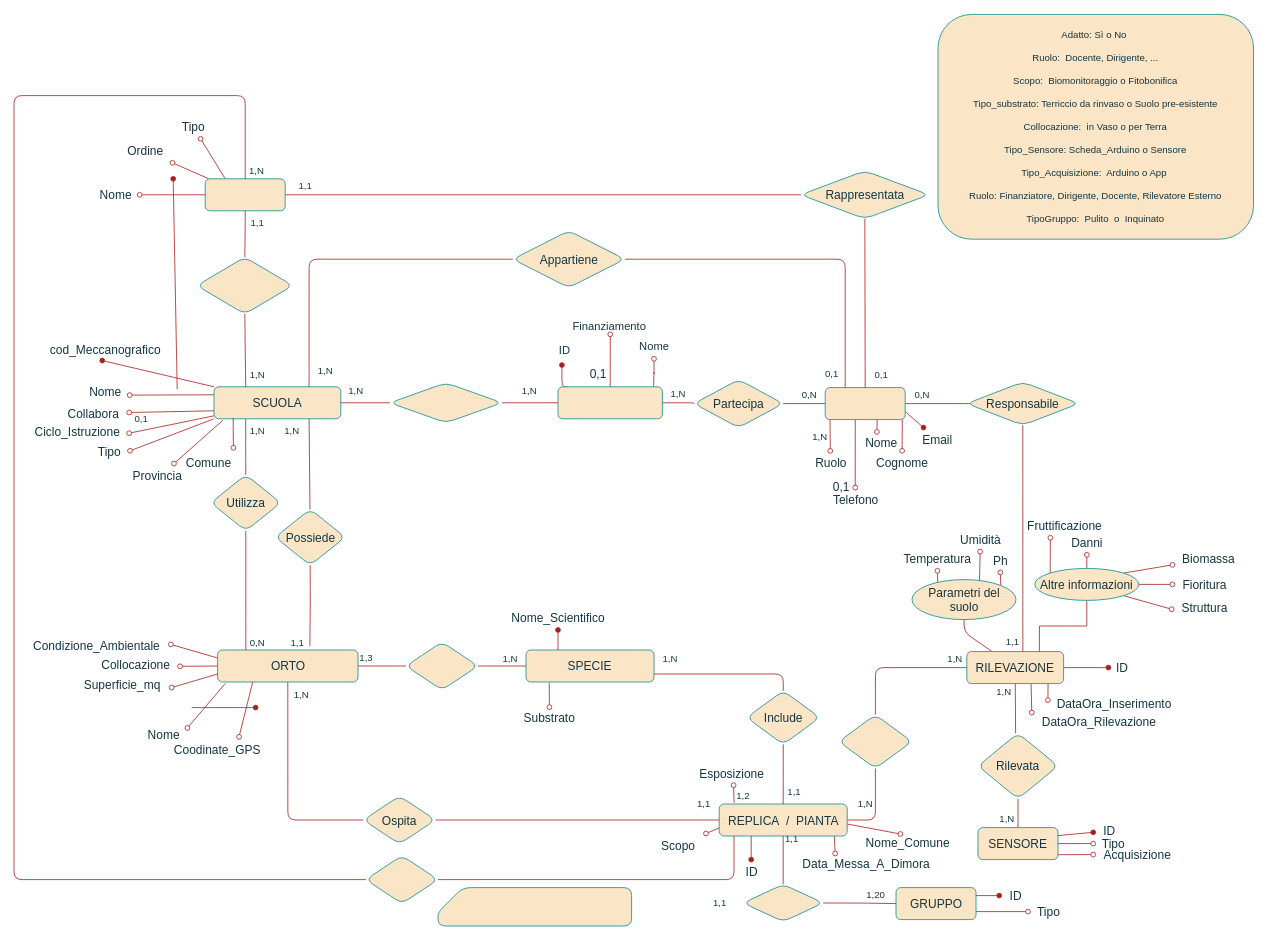
Some shapes in this 1268 by 946 pixel diagram are drawn without their labels. The centre of each missing label's shape, as x and y in pixels:
*Classe che l'ha messa a dimora: [534,906]
Afferisce: [244,285]
CLASSE: [244,194]
Coltiva*: [401,879]
Contenuta: [782,903]
Contiene: [441,665]
Effettuata: [875,741]
Iscritta: [445,402]
PERSONA: [864,403]
PROGETTO: [609,402]
